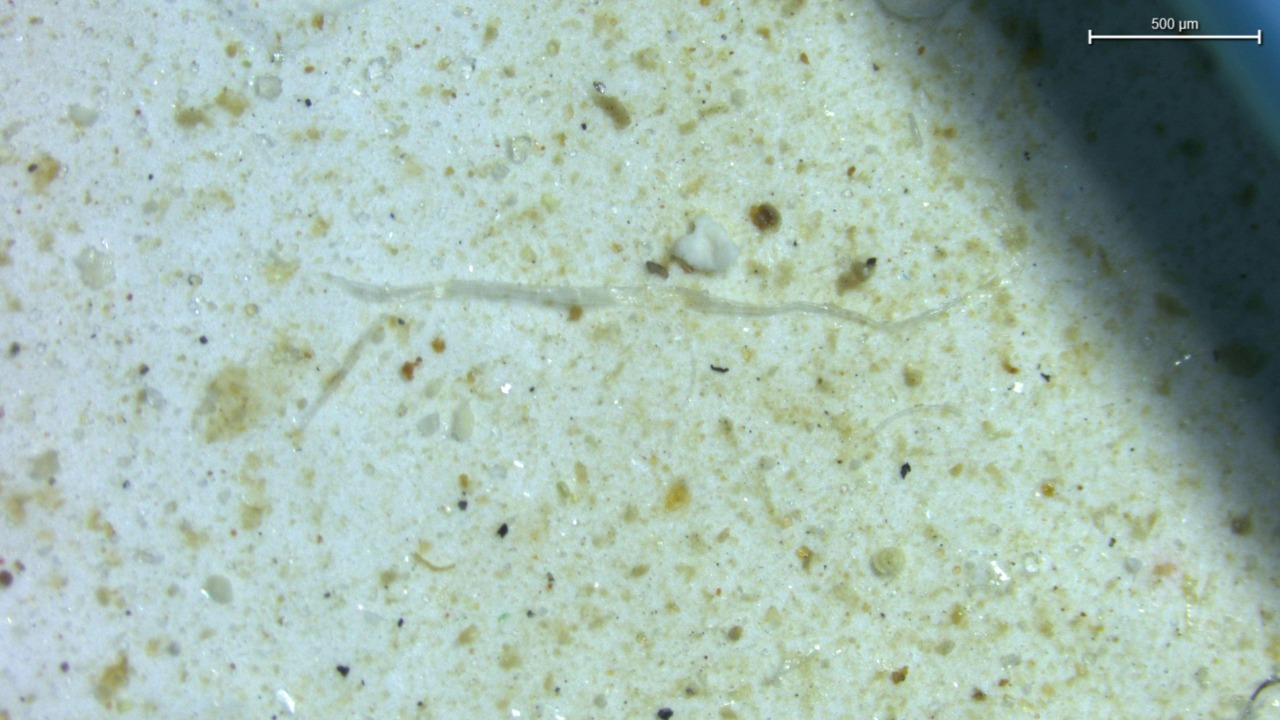microplastic_fragment: (672, 217, 740, 273), (450, 402, 474, 441), (254, 74, 282, 99), (366, 57, 388, 83)
